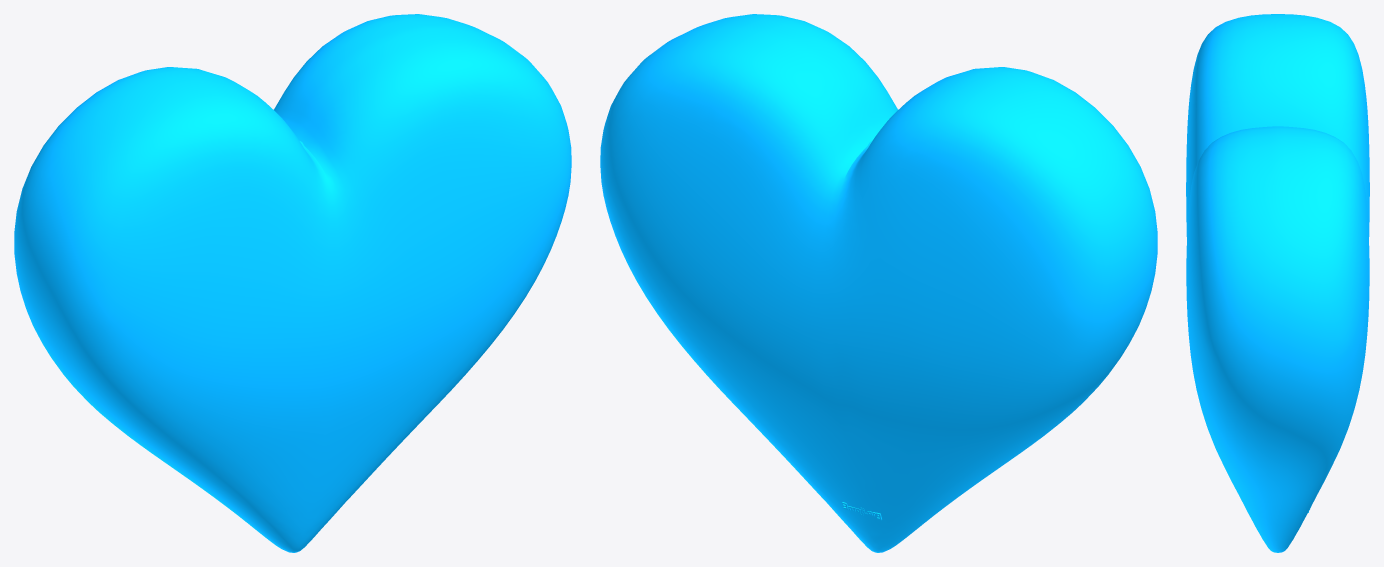
The model's file is blue_heart.gltf.
The picture shows the model from 3 angles, left to right: view 1: azimuth 30°, elevation 25°; view 2: azimuth 150°, elevation 25°; view 3: azimuth 270°, elevation 25°; orthographic projection. The views are drawn at different scales.
Visible parts, largest first — view 1: hfdjkslfjkds.022; view 2: hfdjkslfjkds.022; view 3: hfdjkslfjkds.022.
Part boxes in pixels (<box>): hfdjkslfjkds.022: <box>14,14,571,552</box>; hfdjkslfjkds.022: <box>600,14,1157,552</box>; hfdjkslfjkds.022: <box>1186,14,1369,552</box>.
Size of the model in its own units: 1.86 by 1.68 by 0.5956.
Materials: 1 (1 with a texture image).
